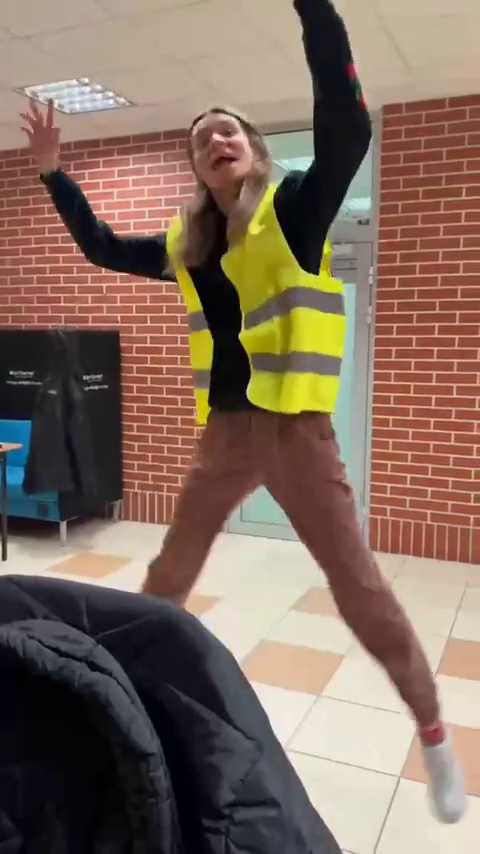vest: (147, 177, 460, 800)
